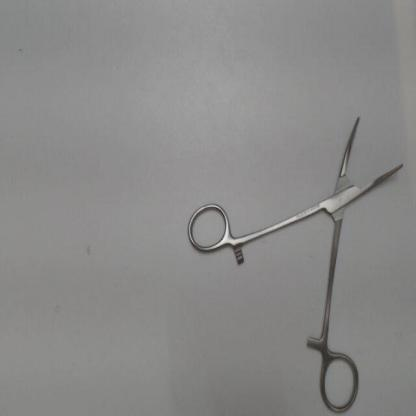Crile Artery Forceps: (180, 106, 410, 414)
